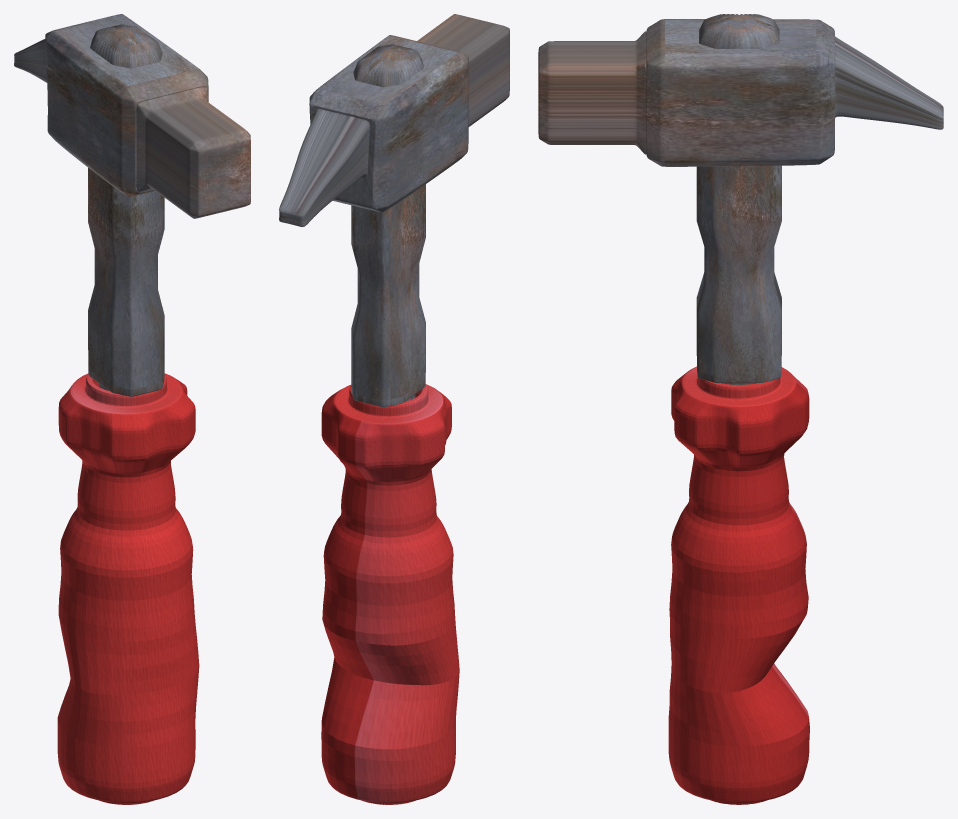
Rendered from Martelo_1.fbx.
3 renders of one model, left to right at view 1: azimuth 30°, elevation 25°; view 2: azimuth 150°, elevation 25°; view 3: azimuth 270°, elevation 25°, orthographic. The views are drawn at different scales.
Parts seen in each view (by area): view 1: Cylinder.006, Cube.011, Cube.010; view 2: Cylinder.006, Cube.011, Cube.010; view 3: Cylinder.006, Cube.011, Cube.010.
Boxes of the visible parts, x1=… form: Cylinder.006: x1=57, y1=373, x2=199, y2=804; Cube.011: x1=14, y1=14, x2=250, y2=218; Cube.010: x1=88, y1=24, x2=164, y2=396; Cylinder.006: x1=321, y1=384, x2=459, y2=804; Cube.011: x1=279, y1=14, x2=509, y2=226; Cube.010: x1=351, y1=44, x2=425, y2=407; Cylinder.006: x1=668, y1=366, x2=809, y2=804; Cube.011: x1=538, y1=19, x2=943, y2=166; Cube.010: x1=696, y1=14, x2=781, y2=384.
Bounding box in the file's own units: 189 × 1134 × 539.
3 materials, 3 textured.
